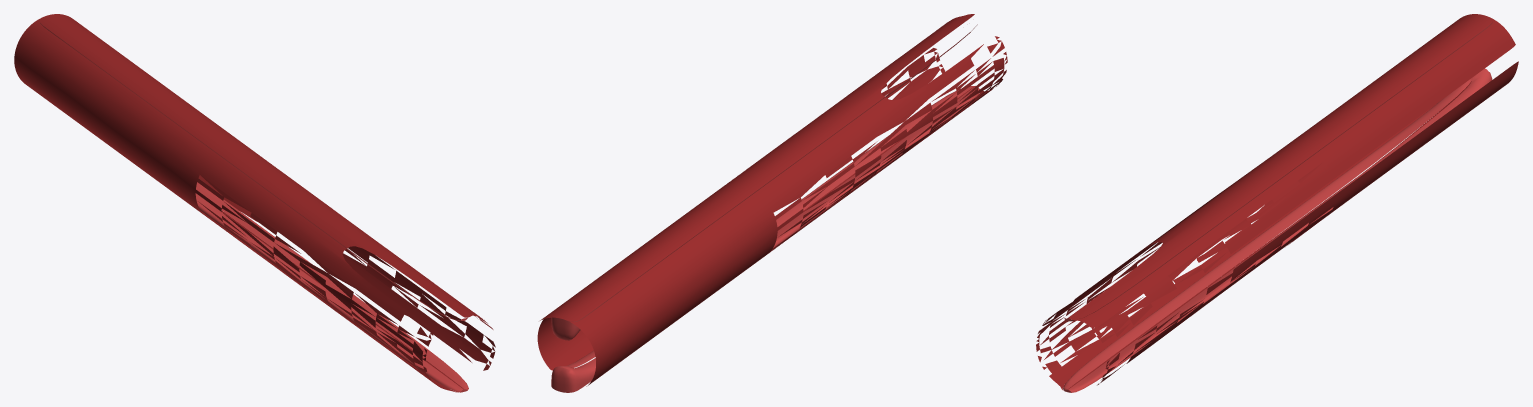
File: Tunel2(Boca).gltf
3 views of the same model, side by side, from view 1: azimuth 30°, elevation 25°; view 2: azimuth 150°, elevation 25°; view 3: azimuth 330°, elevation 25° (orthographic).
Parts seen in each view (by area): view 1: Tubo.3-Mat.2, Tubo.3-Mat; view 2: Tubo.3-Mat.2, Tubo.3-Mat; view 3: Tubo.3-Mat.2, Tubo.3-Mat.
Boxes of the visible parts, left/top/right/bottom form: Tubo.3-Mat.2: left=14, top=14, right=495, bottom=392; Tubo.3-Mat: left=40, top=23, right=468, bottom=392; Tubo.3-Mat.2: left=537, top=14, right=1007, bottom=386; Tubo.3-Mat: left=551, top=24, right=979, bottom=392; Tubo.3-Mat.2: left=1036, top=14, right=1518, bottom=390; Tubo.3-Mat: left=1063, top=22, right=1492, bottom=392.
Bounding box in the file's own units: 0.0988 × 0.1 × 1.
